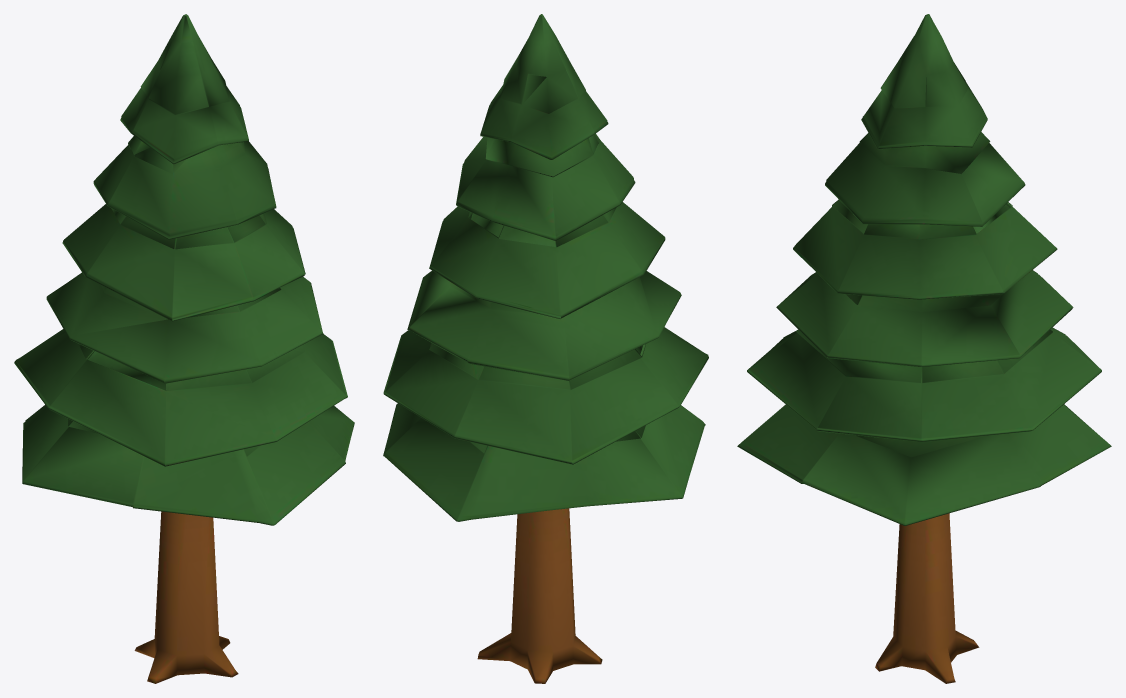
File: selected.fbx
The picture shows the model from 3 angles, left to right: view 1: azimuth 30°, elevation 25°; view 2: azimuth 150°, elevation 25°; view 3: azimuth 270°, elevation 25°; orthographic projection.
Parts seen in each view (by area): view 1: tripo_node_d9e2ecb4-260b-4f3f-8635-c2d0e998019e; view 2: tripo_node_d9e2ecb4-260b-4f3f-8635-c2d0e998019e; view 3: tripo_node_d9e2ecb4-260b-4f3f-8635-c2d0e998019e.
Boxes of the visible parts, box(x1,y1,x2,y2) form: tripo_node_d9e2ecb4-260b-4f3f-8635-c2d0e998019e: box(14, 14, 354, 683); tripo_node_d9e2ecb4-260b-4f3f-8635-c2d0e998019e: box(383, 14, 708, 683); tripo_node_d9e2ecb4-260b-4f3f-8635-c2d0e998019e: box(737, 14, 1111, 683).
Bounding box in the file's own units: 49.8 × 99.8 × 52.54.
1 material, 1 textured.
